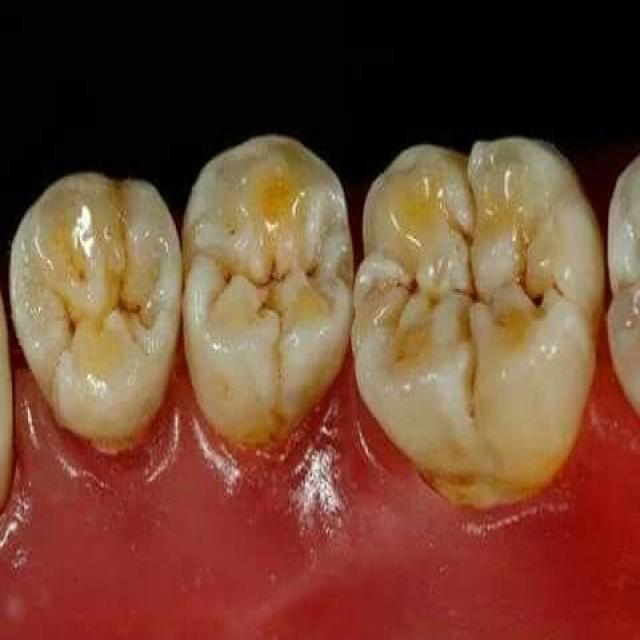Caries: (521, 261, 543, 305), (257, 261, 285, 287), (116, 295, 140, 313), (468, 271, 479, 301), (261, 301, 276, 311), (307, 267, 316, 277), (69, 321, 75, 335), (227, 273, 231, 281)
Tooth: (349, 136, 604, 514), (180, 138, 355, 441), (9, 169, 184, 445), (401, 281, 416, 293), (463, 227, 472, 243)
